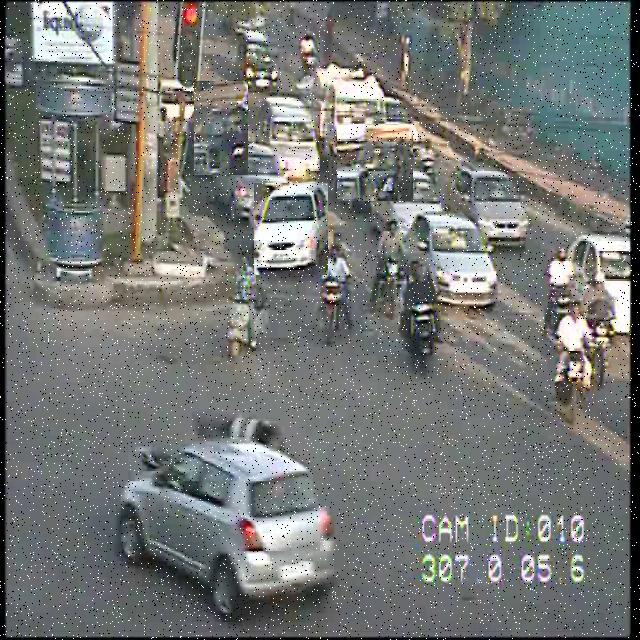Accident: (114, 358, 348, 624)
Bike: (554, 235, 612, 420), (378, 214, 440, 372), (229, 241, 279, 353), (323, 222, 358, 338)
Car: (450, 156, 534, 246), (254, 184, 328, 276), (260, 80, 323, 186), (216, 128, 292, 210), (427, 205, 494, 296), (337, 124, 413, 201), (194, 81, 248, 175), (376, 167, 452, 231), (242, 11, 288, 91)
Traffic signal: (176, 1, 212, 116)
